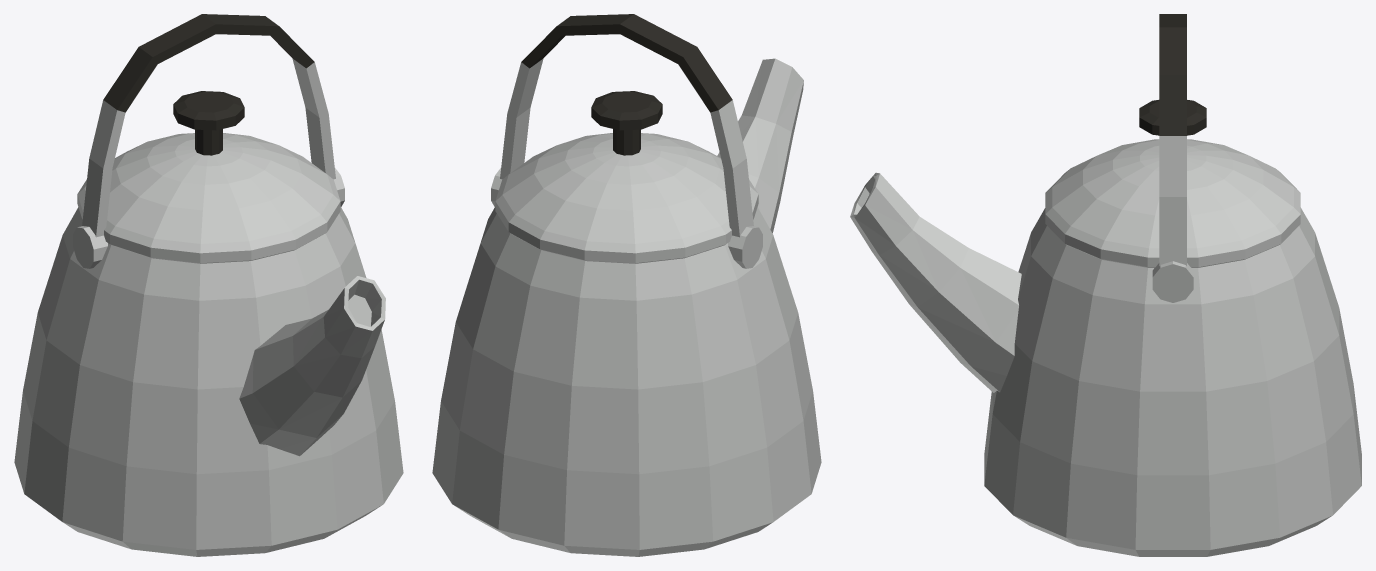
File: SM_Cook_KettleBig_01.fbx
The picture shows the model from 3 angles, left to right: view 1: azimuth 30°, elevation 25°; view 2: azimuth 150°, elevation 25°; view 3: azimuth 270°, elevation 25°; orthographic projection.
Parts seen in each view (by area): view 1: SM_Cook_KettleBig_01; view 2: SM_Cook_KettleBig_01; view 3: SM_Cook_KettleBig_01.
Part boxes in pixels (x1,y1,x2,y2): SM_Cook_KettleBig_01: (14,14,403,556); SM_Cook_KettleBig_01: (432,14,821,556); SM_Cook_KettleBig_01: (850,14,1361,556).
Size of the model in its own units: 0.2452 by 0.3283 by 0.3324.
1 material, 1 textured.
